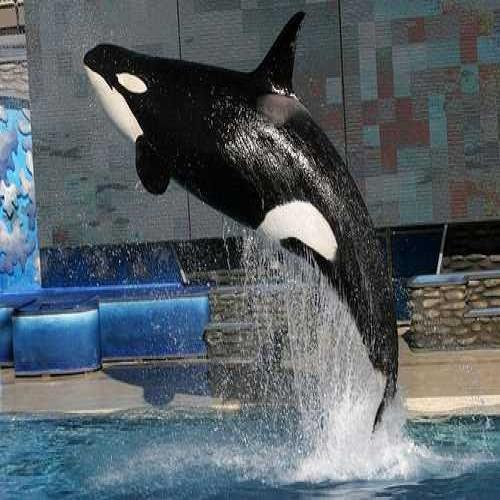killer_whale-endangered: (73, 4, 430, 424)
